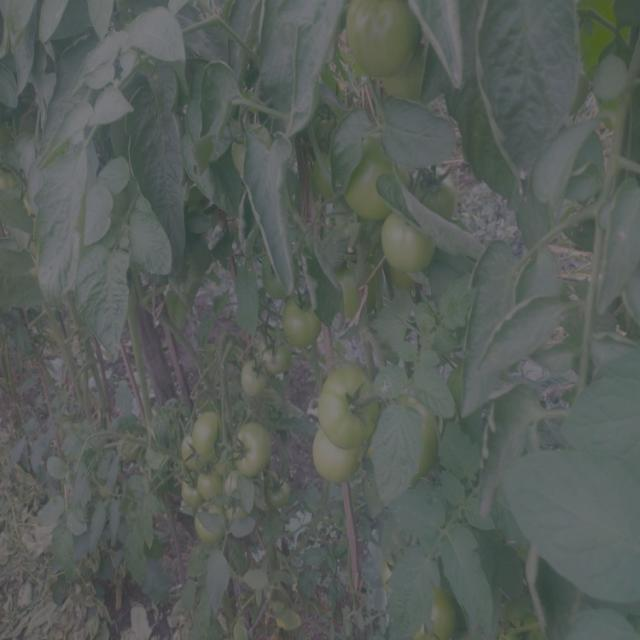tomato: (343, 1, 419, 75), (314, 361, 379, 441), (346, 148, 398, 213), (383, 213, 437, 268), (229, 417, 277, 476), (310, 438, 364, 484), (181, 408, 225, 463), (410, 162, 461, 209), (327, 269, 371, 321), (424, 587, 465, 640), (282, 299, 324, 347), (226, 124, 260, 180), (597, 57, 630, 104), (193, 508, 226, 548), (313, 158, 349, 194), (237, 360, 269, 395), (267, 476, 297, 512), (262, 343, 294, 374), (223, 474, 251, 508), (198, 471, 220, 501), (177, 475, 198, 503)
